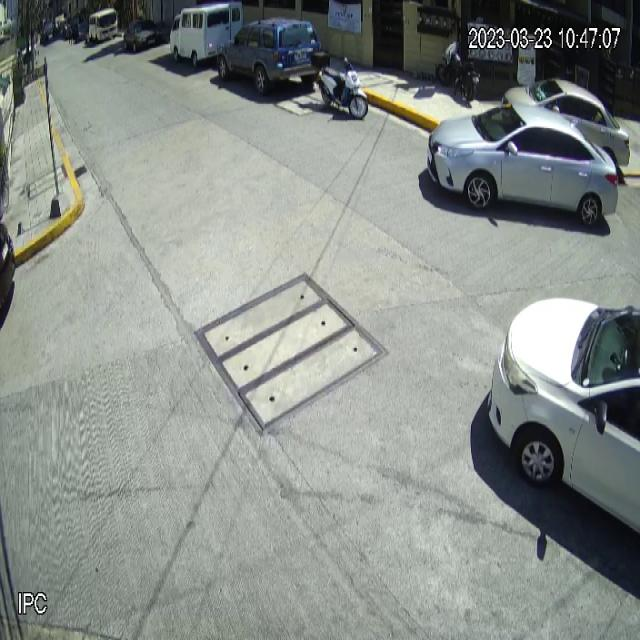Car: (485, 294, 640, 540), (426, 102, 620, 232), (216, 18, 320, 97)
Motorcycle: (310, 51, 369, 120)
Van: (169, 0, 244, 69)
